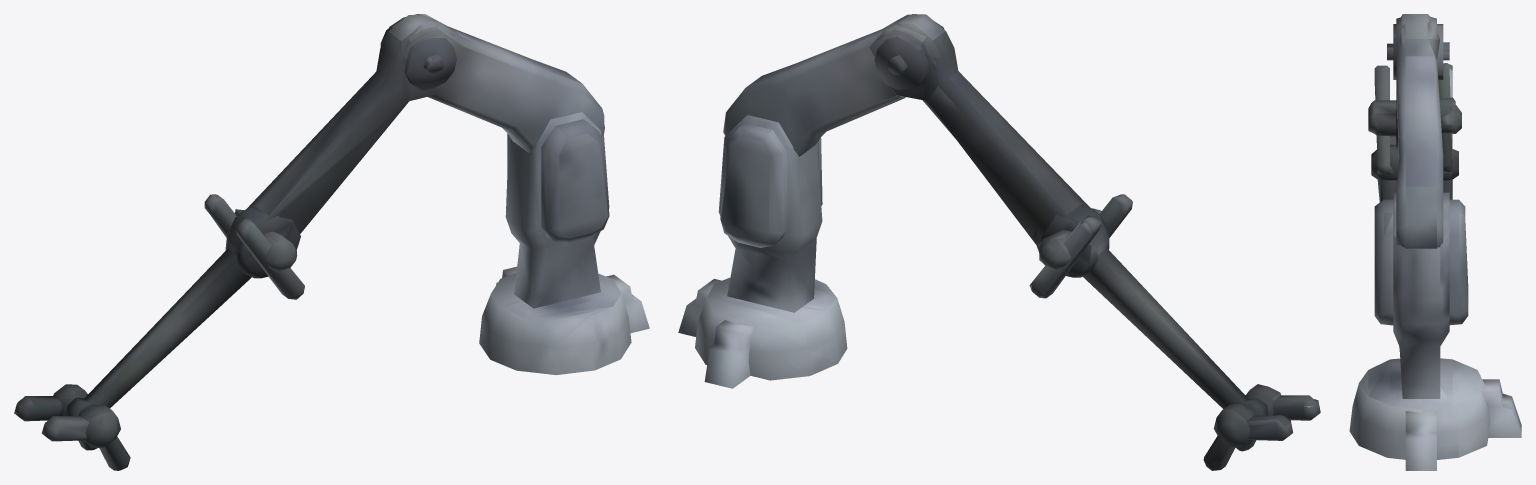
The model's file is 整備庫_08_軌道機械臂.glb.
The picture shows the model from 3 angles, left to right: view 1: azimuth 30°, elevation 25°; view 2: azimuth 150°, elevation 25°; view 3: azimuth 270°, elevation 25°; orthographic projection. The views are drawn at different scales.
Visible parts, largest first — view 1: 08_軌道機械臂; view 2: 08_軌道機械臂; view 3: 08_軌道機械臂.
Boxes of the visible parts, <box> form: 08_軌道機械臂: <box>14,14,649,470</box>; 08_軌道機械臂: <box>678,14,1320,470</box>; 08_軌道機械臂: <box>1349,14,1521,470</box>.
Size of the model in its own units: 0.1069 by 0.0601 by 0.0269.
1 material, 1 textured.
